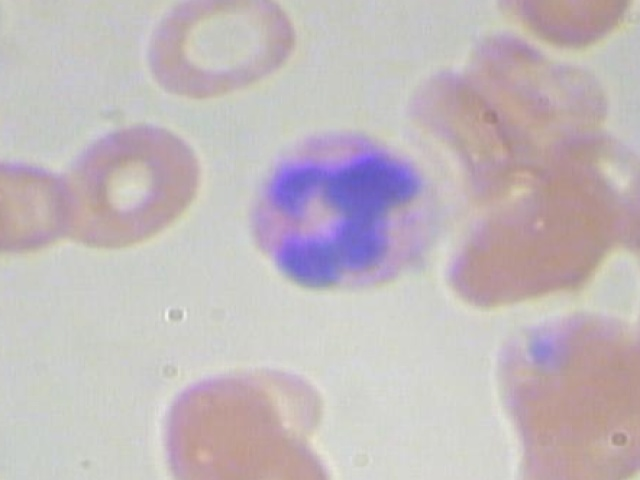RBC: (42, 116, 209, 249), (116, 0, 307, 110), (152, 369, 289, 480), (0, 155, 90, 261), (492, 0, 640, 52), (630, 249, 640, 387)
WBC: (227, 119, 487, 311)
